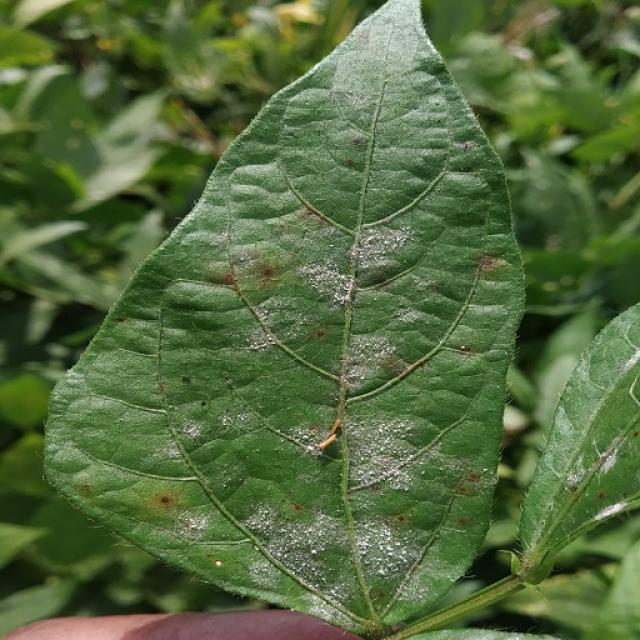Blackgram: (45, 0, 522, 631)
Powdery_Mildew: (335, 414, 428, 500), (342, 511, 420, 585), (519, 480, 573, 568), (564, 428, 626, 493), (296, 253, 359, 309), (242, 500, 304, 549), (347, 229, 406, 280), (337, 331, 398, 380), (545, 406, 588, 469), (245, 553, 301, 596), (302, 597, 359, 630), (213, 404, 263, 441), (243, 316, 284, 352), (286, 423, 328, 457), (454, 469, 488, 498), (178, 512, 212, 535), (43, 437, 65, 465), (303, 323, 332, 343), (622, 347, 640, 376), (179, 419, 203, 439), (327, 584, 344, 602), (356, 33, 369, 44), (225, 378, 235, 389), (378, 424, 386, 435), (433, 100, 442, 107), (254, 545, 261, 552), (513, 636, 524, 640), (359, 374, 365, 380), (328, 243, 335, 248), (460, 345, 466, 350), (240, 594, 245, 599), (483, 468, 489, 472)
